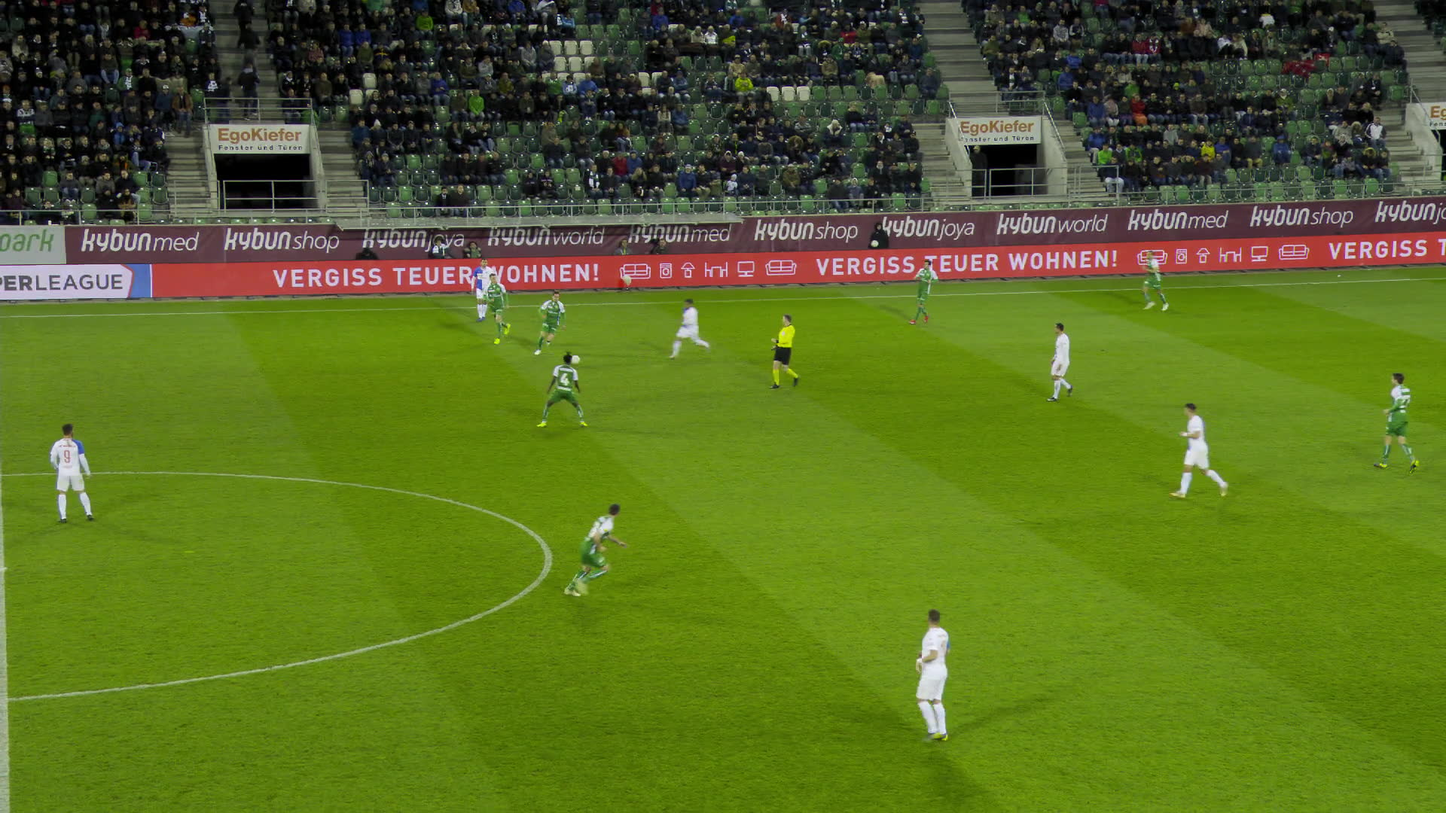ball: (571, 354, 579, 363)
player: (906, 611, 962, 744), (554, 504, 618, 598), (1172, 403, 1225, 501), (49, 422, 93, 524), (1375, 370, 1417, 475), (538, 350, 582, 428), (1042, 322, 1076, 403), (534, 289, 565, 355), (482, 274, 511, 344), (680, 297, 708, 361), (911, 260, 938, 324), (469, 259, 495, 321), (1142, 251, 1167, 312)
referee: (764, 312, 795, 390)
